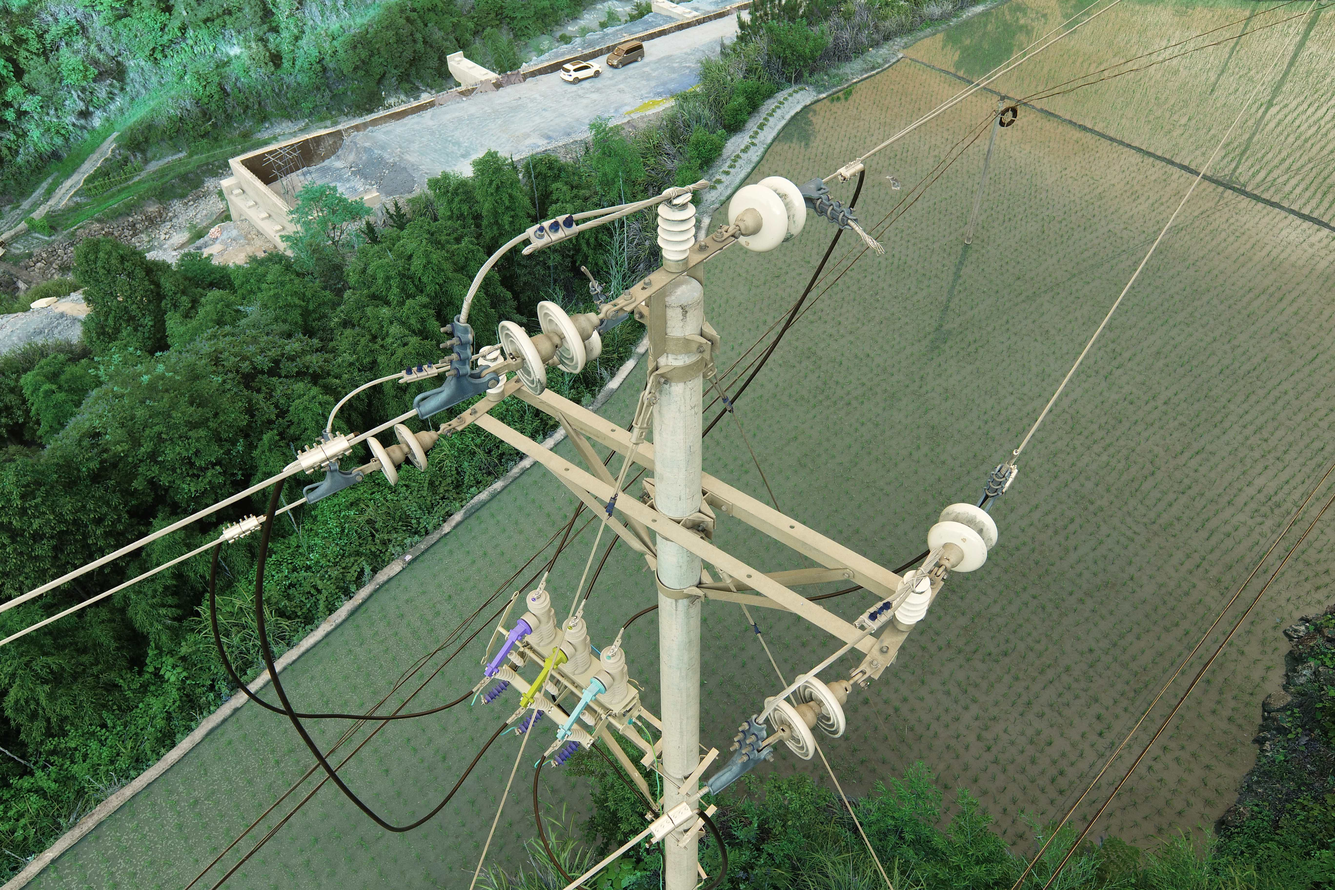severe_soiling_no_discharge_whole: (495, 296, 604, 398), (758, 665, 858, 761), (726, 172, 809, 254), (924, 497, 1002, 575)
